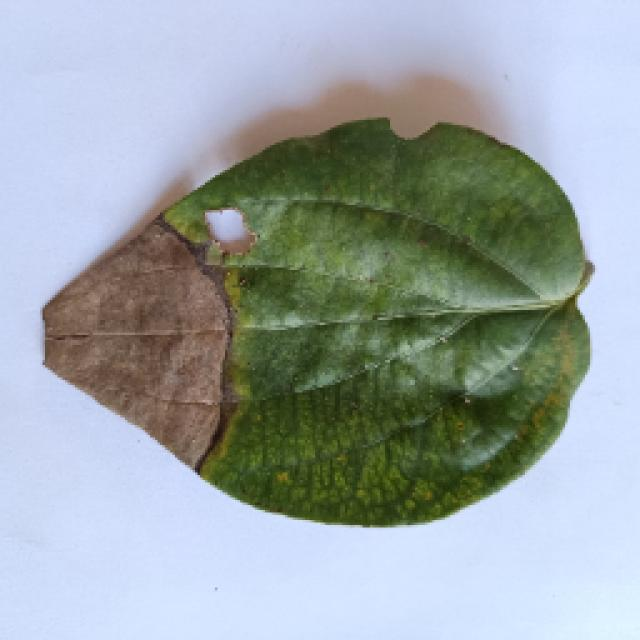footrot: (40, 110, 588, 522)
